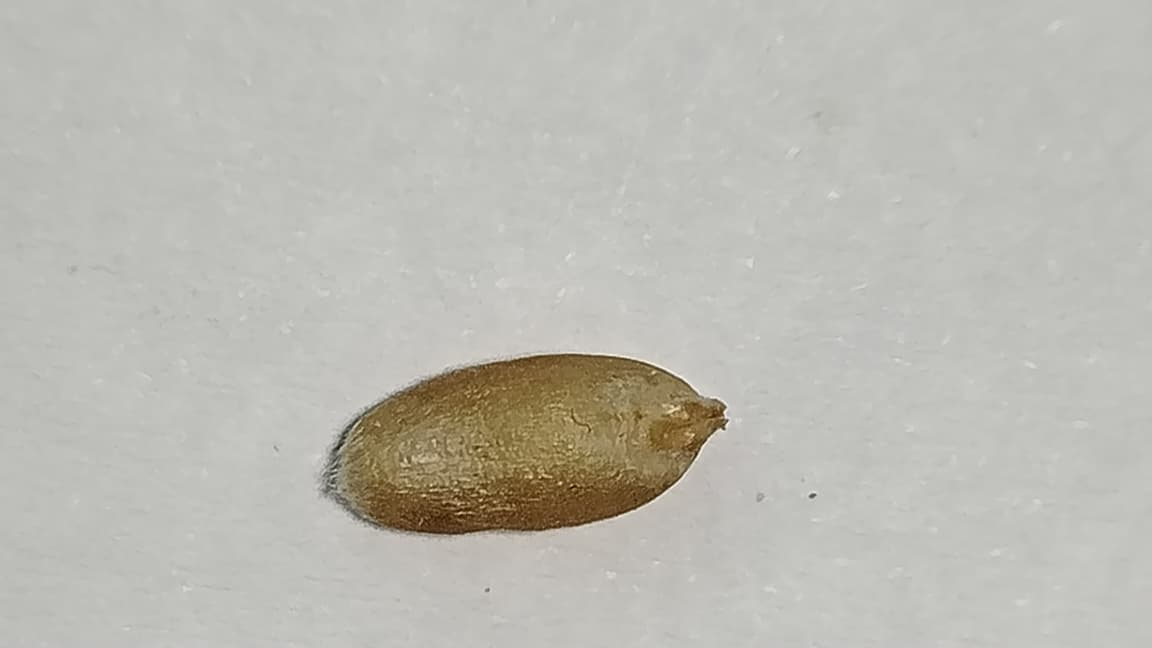healthy: (324, 353, 726, 533)
